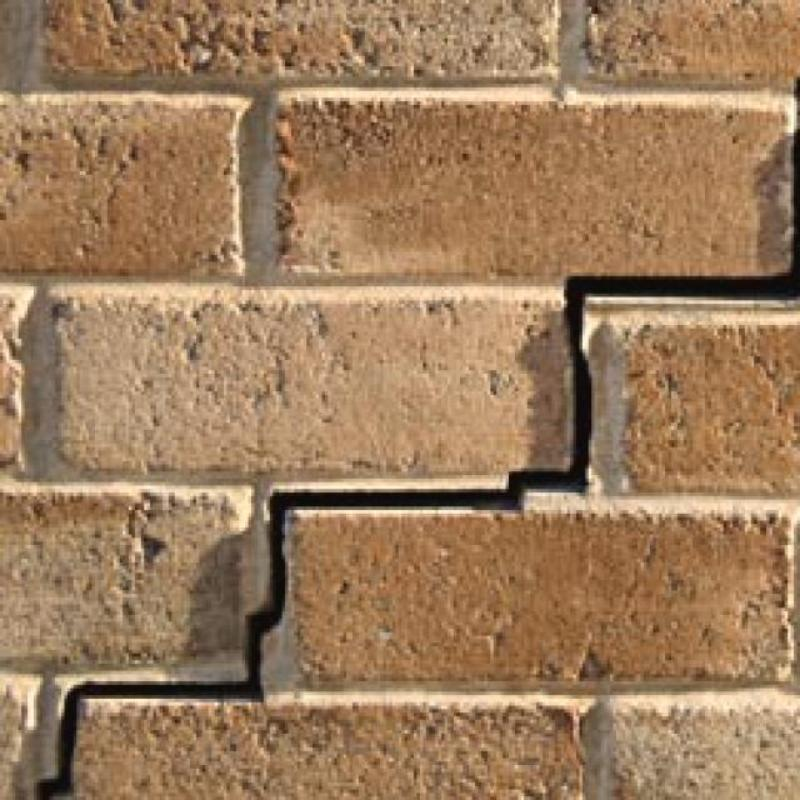pothole: (37, 79, 799, 799)
